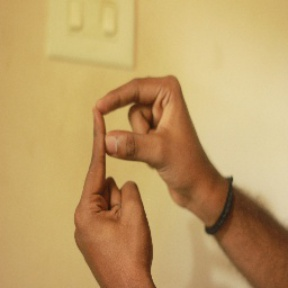P: (68, 70, 196, 230)
